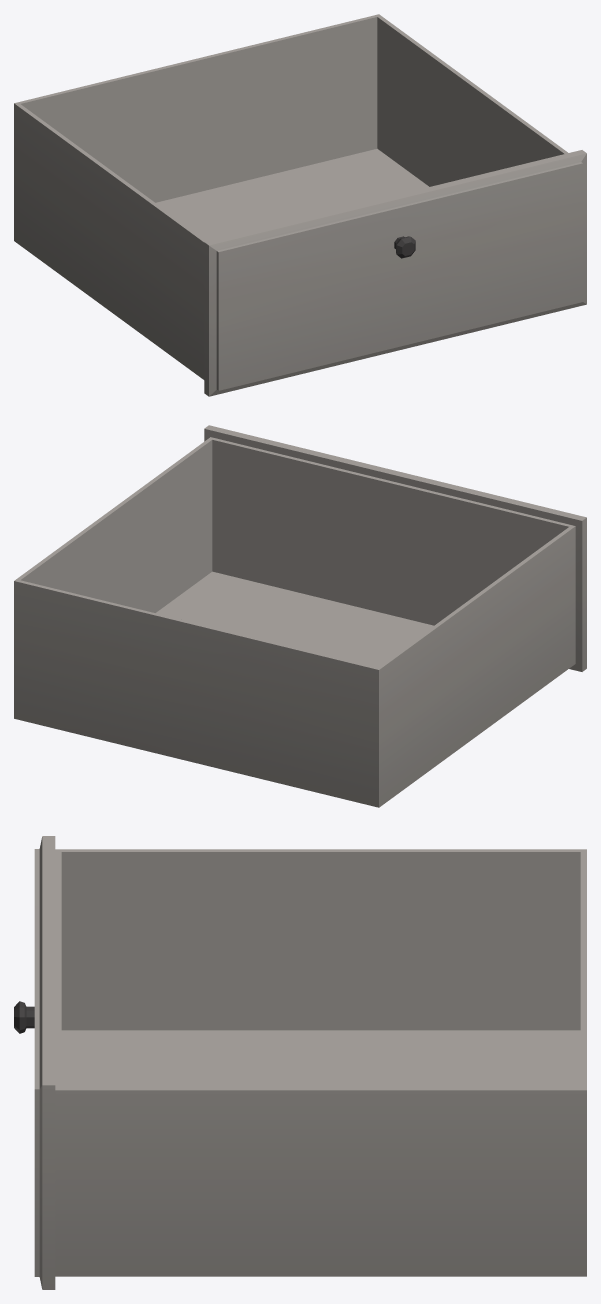
Rendered from Drawer_Unit_80cm_Large.fbx.
The picture shows the model from 3 angles, top to bottom: view 1: azimuth 30°, elevation 25°; view 2: azimuth 150°, elevation 25°; view 3: azimuth 270°, elevation 25°; orthographic projection. The views are drawn at different scales.
Parts seen in each view (by area): view 1: Drawer_Unit_80cm_Large; view 2: Drawer_Unit_80cm_Large; view 3: Drawer_Unit_80cm_Large.
Part boxes in pixels (box(x1,y1,x2,y2)): Drawer_Unit_80cm_Large: box(14, 14, 586, 396); Drawer_Unit_80cm_Large: box(14, 425, 586, 807); Drawer_Unit_80cm_Large: box(14, 836, 586, 1289).
Bounding box in the file's own units: 78.38 × 29.97 × 76.11.
